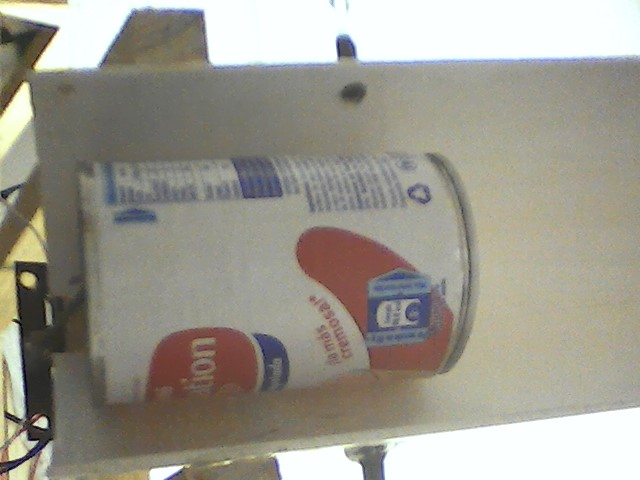lata: (71, 147, 487, 416)
